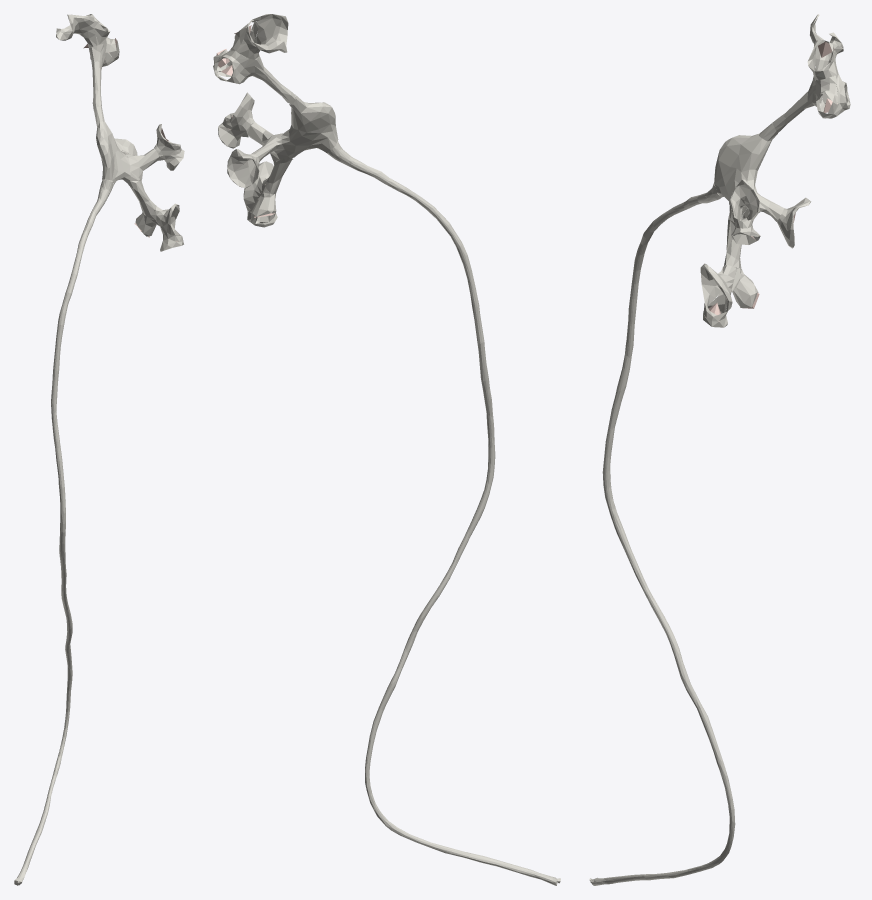
Rendered from VH_F_Ureter_L_0.1.glb.
3 renders of one model, left to right at view 1: azimuth 30°, elevation 25°; view 2: azimuth 150°, elevation 25°; view 3: azimuth 270°, elevation 25°, orthographic. The views are drawn at different scales.
Parts seen in each view (by area): view 1: VH_F_left_ureter, VH_F_renal_pelvis_L, VH_F_minor_calyx_L_a, VH_F_major_calyx_L_a, VH_F_minor_calyx_L_h, VH_F_major_calyx_L_d, VH_F_major_calyx_L_c, VH_F_minor_calyx_L_f; view 2: VH_F_left_ureter, VH_F_renal_pelvis_L, VH_F_minor_calyx_L_a, VH_F_minor_calyx_L_e, VH_F_minor_calyx_L_c, VH_F_minor_calyx_L_f; view 3: VH_F_left_ureter, VH_F_renal_pelvis_L, VH_F_minor_calyx_L_h, VH_F_minor_calyx_L_f, VH_F_major_calyx_L_a, VH_F_minor_calyx_L_d, VH_F_minor_calyx_L_e, VH_F_minor_calyx_L_a, VH_F_major_calyx_L_d, VH_F_minor_calyx_L_i, VH_F_minor_calyx_L_b, VH_F_minor_calyx_L_c.
Part boxes in pixels (left/top/right/bottom): VH_F_left_ureter: left=14, top=179, right=113, bottom=885; VH_F_renal_pelvis_L: left=94, top=105, right=130, bottom=184; VH_F_minor_calyx_L_a: left=56, top=14, right=99, bottom=48; VH_F_major_calyx_L_a: left=89, top=43, right=105, bottom=110; VH_F_minor_calyx_L_h: left=151, top=203, right=183, bottom=241; VH_F_major_calyx_L_d: left=128, top=172, right=156, bottom=216; VH_F_major_calyx_L_c: left=128, top=148, right=158, bottom=180; VH_F_minor_calyx_L_f: left=154, top=124, right=181, bottom=156; VH_F_left_ureter: left=327, top=141, right=560, bottom=885; VH_F_renal_pelvis_L: left=281, top=94, right=338, bottom=158; VH_F_minor_calyx_L_a: left=236, top=14, right=288, bottom=59; VH_F_minor_calyx_L_e: left=227, top=149, right=259, bottom=187; VH_F_minor_calyx_L_c: left=213, top=48, right=256, bottom=84; VH_F_minor_calyx_L_f: left=222, top=92, right=254, bottom=130; VH_F_left_ureter: left=589, top=182, right=735, bottom=885; VH_F_renal_pelvis_L: left=714, top=123, right=777, bottom=215; VH_F_minor_calyx_L_h: left=700, top=263, right=736, bottom=321; VH_F_minor_calyx_L_f: left=730, top=179, right=759, bottom=228; VH_F_major_calyx_L_a: left=772, top=76, right=822, bottom=132; VH_F_minor_calyx_L_d: left=815, top=75, right=837, bottom=118; VH_F_minor_calyx_L_e: left=777, top=197, right=811, bottom=248; VH_F_minor_calyx_L_a: left=810, top=14, right=843, bottom=70; VH_F_major_calyx_L_d: left=724, top=203, right=743, bottom=268; VH_F_minor_calyx_L_i: left=732, top=268, right=758, bottom=307; VH_F_minor_calyx_L_b: left=807, top=40, right=838, bottom=80; VH_F_minor_calyx_L_c: left=815, top=74, right=850, bottom=118.
Size of the model in its own units: 0.0825 by 0.2661 by 0.0677.
